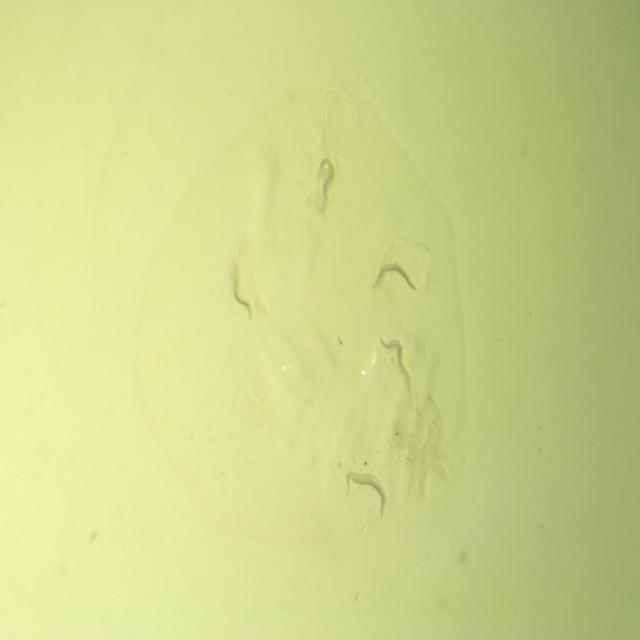worm: (348, 473, 386, 525), (369, 260, 420, 294), (344, 472, 388, 511), (378, 333, 413, 382), (313, 155, 338, 212), (229, 266, 254, 322)
